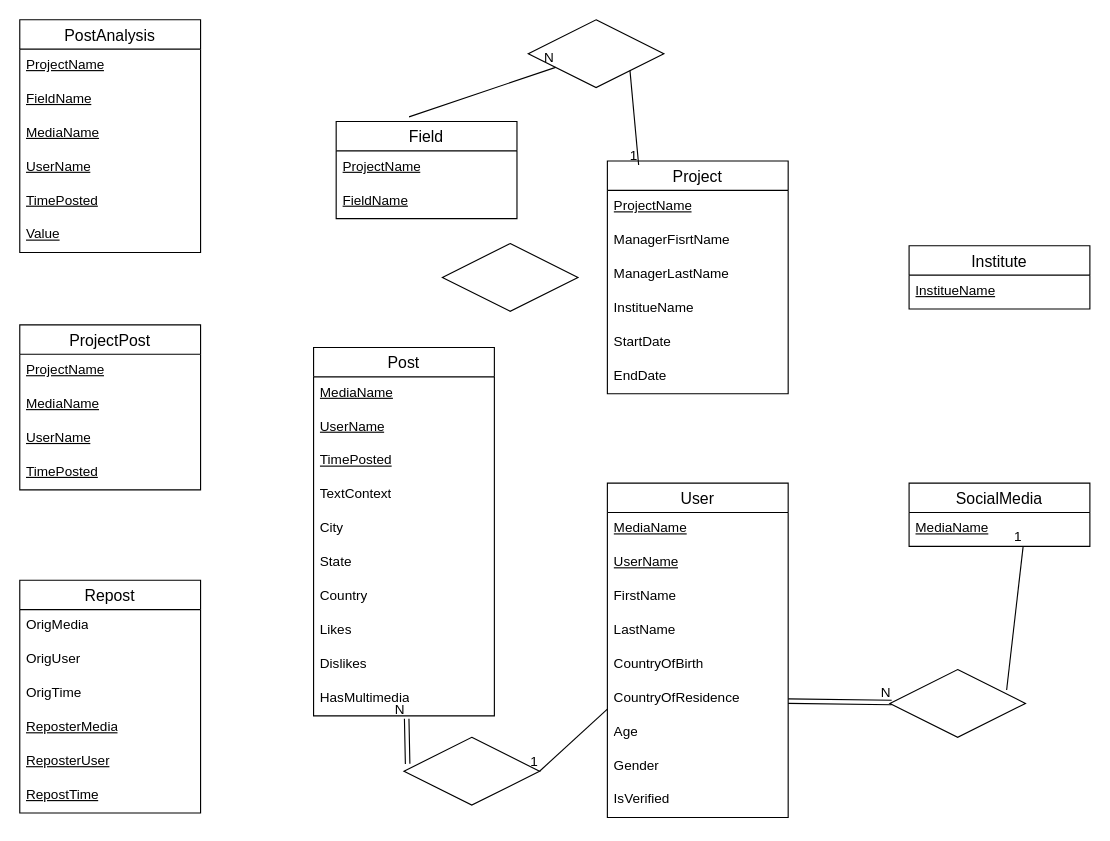
Some shapes in this 1110 by 841 pixel diagram are drawn without their labels. Here are the shapes that lost their labels. From the top down, the centre of each, then its label:
the point at 595,53: Defines
the point at 509,276: AnalyzedIn
the point at 957,702: BelongsTo
the point at 471,770: Posts
